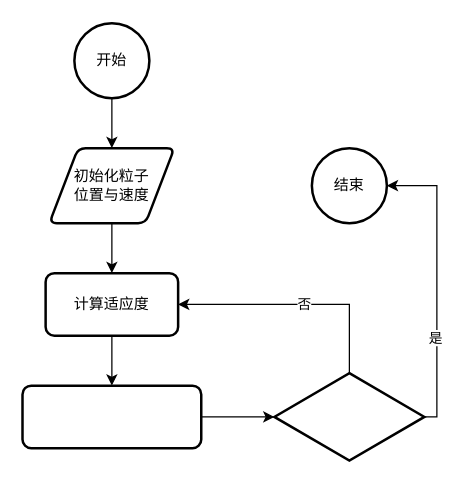
This 469x483 diagram has some shape labels left out. The shapes that lost their labels are listed below. From the top down, each one's centre as x and y in pixels, then its label:
At (111,416): "更新个体最优和种群最优".
At (348,416): "满足终止条件？".
